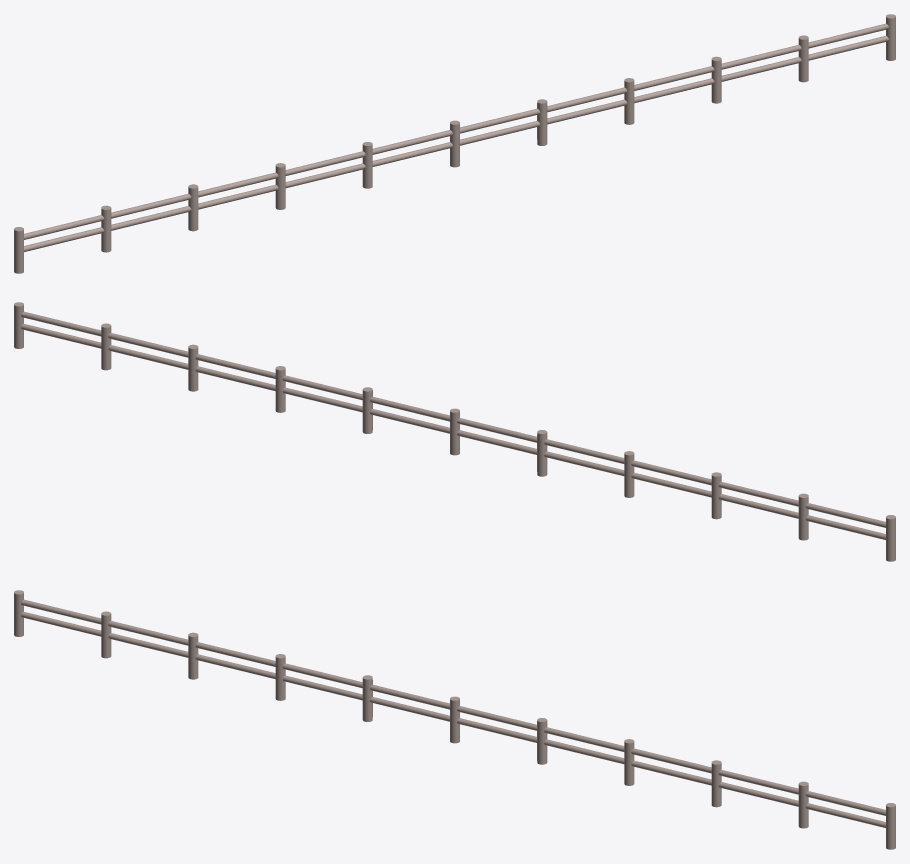
File: 1007_fence_10.glb
The picture shows the model from 3 angles, top to bottom: view 1: azimuth 30°, elevation 25°; view 2: azimuth 150°, elevation 25°; view 3: azimuth 330°, elevation 25°; orthographic projection.
Visible parts, largest first — view 1: Body; view 2: Body; view 3: Body.
Part boxes in pixels (x1,y1,x2,y2): Body: (14, 14, 895, 273); Body: (14, 302, 895, 561); Body: (14, 590, 895, 849).
Size of the model in its own units: 15.15 by 0.7 by 0.15.
